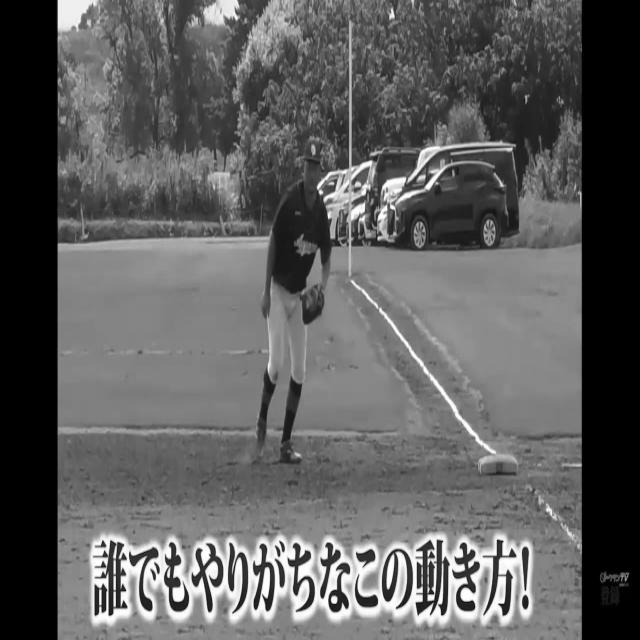base: (476, 452, 520, 482)
baseball_glove: (296, 277, 328, 334)
shoe: (254, 405, 271, 457), (280, 442, 303, 471)
